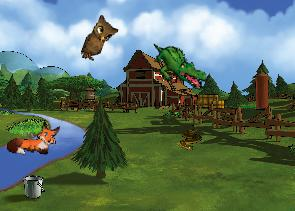crocodile: (145, 41, 212, 91)
fox: (6, 119, 60, 157)
owl: (79, 13, 121, 66)
